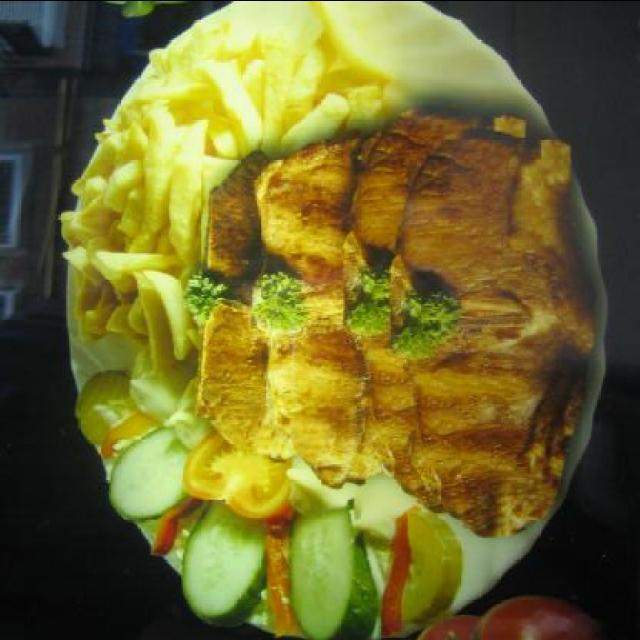Cucumber: (294, 502, 377, 640), (183, 498, 265, 626), (100, 421, 192, 532), (408, 509, 459, 620)
